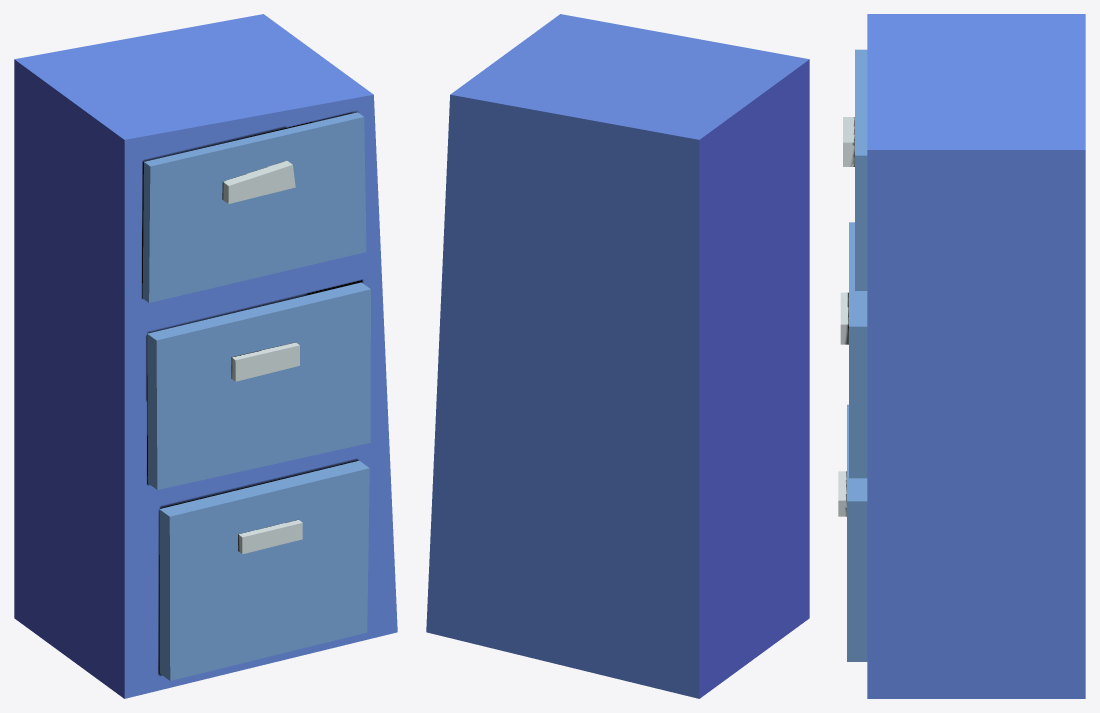
The model's file is FILING CABINET-1.fbx.
3 renders of one model, left to right at view 1: azimuth 30°, elevation 25°; view 2: azimuth 150°, elevation 25°; view 3: azimuth 270°, elevation 25°, orthographic.
Visible parts, largest first — view 1: Cube; view 2: Cube; view 3: Cube.
Boxes of the visible parts, x1,y1,x2,y2 form: Cube: (14, 14, 397, 698); Cube: (426, 14, 809, 698); Cube: (838, 14, 1085, 698).
Size of the model in its own units: 28.81 by 56.32 by 22.82.
Materials: 1 (1 with a texture image).
